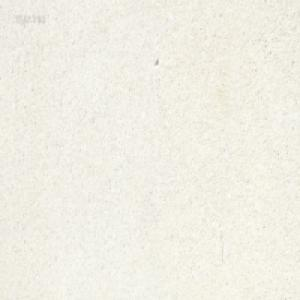Wrench: (199, 0, 205, 5)
